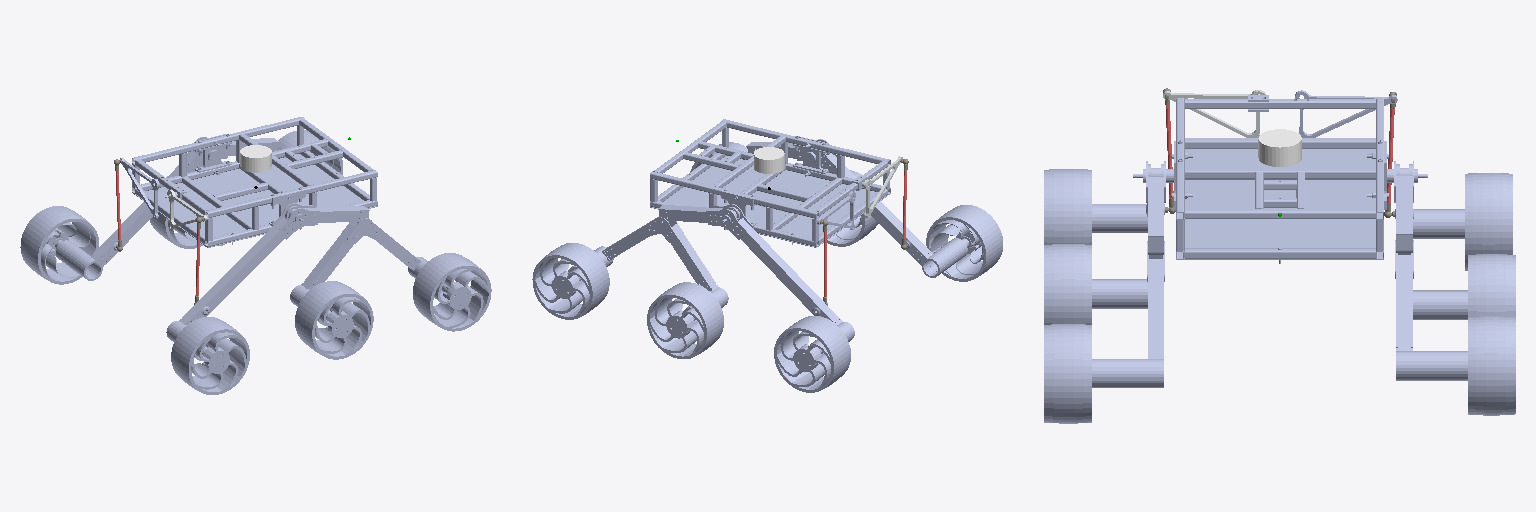
--- Facts derived from the render (not from the file) ---
3 views of the same robot in one strip: view 1: azimuth 30°, elevation 25°; view 2: azimuth 150°, elevation 25°; view 3: azimuth 270°, elevation 25° (orthographic).
Robot: rover — 31 links, 30 joints (5 revolute, 8 continuous, 15 fixed, 2 floating); root link root_link; default pose: every joint at zero.
Links seen in each view (by area): view 1: base_link, wheel_3, wheel_2, wheel_1, Right_rocker, wheel_4, Left_rocker, Right_bogie, sensor_laser, wheel_5, wheel_6, triangle-left; view 2: base_link, wheel_4, wheel_5, wheel_6, Left_rocker, wheel_1, Right_rocker, Left_bogie, wheel_2, sensor_laser, triangle-right; view 3: base_link, Left_bogie, Right_bogie, wheel_3, wheel_6, wheel_4, wheel_2, wheel_1, Right_rocker, Left_rocker, wheel_5, sensor_laser (+2 smaller).
Boxes of the visible links, x1,y1,x2,y2 form: base_link: [132, 117, 377, 247]; wheel_3: [413, 253, 491, 331]; wheel_2: [295, 281, 373, 359]; wheel_1: [171, 317, 249, 394]; Right_rocker: [166, 203, 369, 360]; wheel_4: [20, 206, 98, 284]; Left_rocker: [56, 137, 278, 280]; Right_bogie: [290, 218, 443, 325]; sensor_laser: [240, 145, 271, 172]; wheel_5: [150, 176, 202, 248]; wheel_6: [278, 130, 342, 174]; triangle-left: [120, 158, 159, 218]; base_link: [650, 119, 890, 247]; wheel_4: [774, 316, 850, 392]; wheel_5: [647, 282, 723, 358]; wheel_6: [532, 243, 609, 319]; Left_rocker: [658, 204, 854, 354]; wheel_1: [926, 205, 1002, 281]; Right_rocker: [746, 139, 967, 277]; Left_bogie: [568, 217, 728, 321]; wheel_2: [827, 170, 878, 246]; sensor_laser: [754, 147, 784, 173]; triangle-right: [864, 156, 902, 218]; base_link: [1133, 98, 1427, 263]; Left_bogie: [1395, 240, 1467, 380]; Right_bogie: [1092, 241, 1164, 387]; wheel_3: [1044, 324, 1091, 423]; wheel_6: [1468, 316, 1515, 415]; wheel_4: [1465, 173, 1512, 270]; wheel_2: [1044, 244, 1091, 324]; wheel_1: [1044, 169, 1091, 244]; Right_rocker: [1092, 161, 1165, 254]; Left_rocker: [1394, 161, 1464, 252]; wheel_5: [1468, 254, 1515, 316]; sensor_laser: [1258, 129, 1301, 166].
Bounding box of the posed robot: 1.13 × 1.08 × 0.5329 m (x, y, z).
Meshes: 25 distinct files referenced, 24 mesh visuals loaded (23 binary STL); not drawn: 2 (reference not matched to a file when rendering).

URDF robot description (rover):
<?xml version="1.0" ?>
<!-- =================================================================================== -->
<!-- |    This document was autogenerated by xacro from rover.urdf                     | -->
<!-- |    EDITING THIS FILE BY HAND IS NOT RECOMMENDED                                 | -->
<!-- =================================================================================== -->
<!-- This URDF was automatically created by SolidWorks to URDF Exporter! Originally created by Stephen Brawner ([email redacted]) 
     Commit Version: 1.6.0-1-g15f4949  Build Version: 1.6.7594.29634
     For more information, please see http://wiki.ros.org/sw_urdf_exporter -->
<robot name="rover">
  <self_collide>true</self_collide>
  <gazebo reference="base_link">
    <material>Gazebo/Trunk</material>
    <selfCollide>true</selfCollide>
  </gazebo>
  <gazebo reference="Left_rocker">
    <material>Gazebo/Grey</material>
    <selfCollide>true</selfCollide>
  </gazebo>
  <gazebo reference="Right_rocker">
    <material>Gazebo/Grey</material>
    <selfCollide>true</selfCollide>
  </gazebo>
  <gazebo reference="Left_bogie">
    <material>Gazebo/DarkGrey</material>
    <selfCollide>true</selfCollide>
  </gazebo>
  <gazebo reference="Right_bogie">
    <material>Gazebo/DarkGrey</material>
    <selfCollide>true</selfCollide>
  </gazebo>
  <gazebo reference="wheel_1">
    <material>Gazebo/Trunk</material>
    <selfCollide>true</selfCollide>
  </gazebo>
  <gazebo reference="wheel_2">
    <material>Gazebo/Trunk</material>
    <selfCollide>true</selfCollide>
  </gazebo>
  <gazebo reference="wheel_3">
    <material>Gazebo/Trunk</material>
    <selfCollide>true</selfCollide>
  </gazebo>
  <gazebo reference="wheel_4">
    <material>Gazebo/Trunk</material>
    <selfCollide>true</selfCollide>
  </gazebo>
  <gazebo reference="wheel_5">
    <material>Gazebo/Trunk</material>
    <selfCollide>true</selfCollide>
  </gazebo>
  <gazebo reference="wheel_6">
    <material>Gazebo/Trunk</material>
    <selfCollide>true</selfCollide>
  </gazebo>
  <!-- old plugin -->
  <!-- <gazebo>
    <plugin filename="libgazebo_ros_diff_drive.so" name="differential_drive_controller">
      <alwaysOn>true</alwaysOn>
      <updateRate>20</updateRate>
      <leftJoint>wheel_joint_1</leftJoint>
      <rightJoint>wheel_joint_4</rightJoint>
      <rosDebugLevel>1</rosDebugLevel>
      <publishOdomTF>true</publishOdomTF>
      <publishWheelTF>false</publishWheelTF>
      <publishWheelJointState>true</publishWheelJointState>
      <wheelSeparation>0.43</wheelSeparation>
      <wheelDiameter>0.15</wheelDiameter>
      <torque>0.1</torque>
      <commandTopic>cmd_vel_filtered</commandTopic>
      <odometryTopic>odom</odometryTopic>
      <odometryFrame>odom</odometryFrame>
      <robotBaseFrame>base_link</robotBaseFrame>
    </plugin>
  </gazebo> -->
  <!-- new plugin for 4 wheels -->
  <gazebo>
    <plugin filename="libgazebo_ros_skid_steer_drive.so" name="skid_steer_drive_controller">
      <updateRate>10.0</updateRate>
      <robotNamespace>/</robotNamespace>
      <leftFrontJoint>wheel_joint_4</leftFrontJoint>
      <rightFrontJoint>wheel_joint_1</rightFrontJoint>
      <leftRearJoint>wheel_joint_6</leftRearJoint>
      <rightRearJoint>wheel_joint_3</rightRearJoint>
      <wheelSeparation>0.43</wheelSeparation>
      <wheelDiameter>0.215</wheelDiameter>
      <robotBaseFrame>root_link</robotBaseFrame>
      <torque>20</torque>
      <!-- _filtered -->
      <commandTopic>cmd_vel</commandTopic>
      <odometryTopic>odom</odometryTopic>
      <odometryFrame>odom</odometryFrame>
      <broadcastTF>true</broadcastTF>
    </plugin>
  </gazebo>
  <gazebo reference="sensor_laser">
    <sensor name="head_hokuyo_sensor" type="ray">
      <pose>0 0 0.2 0 0 0</pose>
      <visualize>false</visualize>
      <update_rate>10</update_rate>
      <ray>
        <scan>
          <horizontal>
            <samples>720</samples>
            <resolution>1</resolution>
            <min_angle>-3</min_angle>
            <max_angle>
              3
              <!-- 1.570796 -->
            </max_angle>
          </horizontal>
        </scan>
        <range>
          <min>0.20</min>
          <max>10.0</max>
          <resolution>0.01</resolution>
        </range>
        <noise>
          <type>gaussian</type>
          <mean>0.0</mean>
          <stddev>0.01</stddev>
        </noise>
      </ray>
      <plugin filename="libgazebo_ros_laser.so" name="gazebo_ros_head_hokuyo_controller">
        <topicName>/mrt/laser/scan</topicName>
        <frameName>sensor_laser</frameName>
      </plugin>
    </sensor>
  </gazebo>
  <!-- camera -->
  <gazebo reference="camera_link">
    <!-- <sensor type="camera" name="camera1"> -->
    <sensor name="camera1" type="depth">
      <update_rate>15.0</update_rate>
      <camera name="head">
        <horizontal_fov>1.3962634</horizontal_fov>
        <image>
          <width>800</width>
          <height>800</height>
          <format>B8G8R8</format>
        </image>
        <clip>
          <near>0.02</near>
          <far>300</far>
        </clip>
        <noise>
          <type>gaussian</type>
          <!-- Noise is sampled independently per pixel on each frame.
               That pixel's noise value is added to each of its color
               channels, which at that point lie in the range [0,1]. -->
          <mean>0.0</mean>
          <stddev>0.007</stddev>
        </noise>
      </camera>
      <!-- <plugin name="camera_controller" filename="libgazebo_ros_camera.so"> -->
      <!--   <alwaysOn>true</alwaysOn> -->
      <!--   <updateRate>0.0</updateRate> -->
      <!--   <cameraName>camera</cameraName> -->
      <!--   <imageTopicName>image_raw</imageTopicName> -->
      <!--   <cameraInfoTopicName>camera_info</cameraInfoTopicName> -->
      <!--   <frameName>camera_link</frameName> -->
      <!--   <hackBaseline>0.07</hackBaseline> -->
      <!--   <distortionK1>0.0</distortionK1> -->
      <!--   <distortionK2>0.0</distortionK2> -->
      <!--   <distortionK3>0.0</distortionK3> -->
      <!--   <distortionT1>0.0</distortionT1> -->
      <!--   <distortionT2>0.0</distortionT2> -->
      <!-- </plugin> -->
      <plugin filename="libgazebo_ros_openni_kinect.so" name="camera_plugin">
        <baseline>0.2</baseline>
        <alwaysOn>true</alwaysOn>
        <!-- Keep this zero, update_rate in the parent <sensor> tag
          will control the frame rate. -->
        <updateRate>0.0</updateRate>
        <cameraName>mrt/camera</cameraName>
        <imageTopicName>color/image_raw</imageTopicName>
        <cameraInfoTopicName>color/camera_info</cameraInfoTopicName>
        <depthImageTopicName>depth/image_rect_raw</depthImageTopicName>
        <depthImageCameraInfoTopicName>depth/camera_info</depthImageCameraInfoTopicName>
        <pointCloudTopicName>depth/points</pointCloudTopicName>
        <frameName>camera_link_optical</frameName>
        <pointCloudCutoff>0.5</pointCloudCutoff>
        <pointCloudCutoffMax>7.0</pointCloudCutoffMax>
        <distortionK1>0</distortionK1>
        <distortionK2>0</distortionK2>
        <distortionK3>0</distortionK3>
        <distortionT1>0</distortionT1>
        <distortionT2>0</distortionT2>
        <CxPrime>0</CxPrime>
        <Cx>0</Cx>
        <Cy>0</Cy>
        <focalLength>0</focalLength>
      </plugin>
    </sensor>
  </gazebo>
  <gazebo reference="imu_link">
    <gravity>true</gravity>
    <sensor name="imu_sensor" type="imu">
      <always_on>true</always_on>
      <update_rate>100</update_rate>
      <visualize>true</visualize>
      <topic>__default_topic__</topic>
      <plugin filename="libgazebo_ros_imu_sensor.so" name="imu_plugin">
        <topicName>imu</topicName>
        <bodyName>imu_link</bodyName>
        <updateRateHZ>10.0</updateRateHZ>
        <gaussianNoise>0.0</gaussianNoise>
        <xyzOffset>0 0 0</xyzOffset>
        <rpyOffset>0 0 0</rpyOffset>
        <frameName>imu_link</frameName>
        <initialOrientationAsReference>false</initialOrientationAsReference>
      </plugin>
      <pose>0 0 0 0 0 0</pose>
    </sensor>
  </gazebo>
  <gazebo>
    <plugin filename="libhector_gazebo_ros_gps.so" name="gps_controller">
      <alwaysOn>true</alwaysOn>
      <updateRate>1.0</updateRate>
      <bodyName>base_link</bodyName>
      <topicName>fix</topicName>
      <velocityTopicName>fix_velocity</velocityTopicName>
      <drift>0.0 0.0 0.0</drift>
      <gaussianNoise>0.0001 0.0001 0.0001</gaussianNoise>
      <velocityDrift>0 0 0</velocityDrift>
      <velocityGaussianNoise>0.0 0.0 0.0</velocityGaussianNoise>
    </plugin>
  </gazebo>
  <material name="black">
    <color rgba="0.0 0.0 0.0 1.0"/>
  </material>
  <material name="blue">
    <color rgba="0.203125 0.23828125 0.28515625 1.0"/>
  </material>
  <material name="green">
    <color rgba="0.0 0.8 0.0 1.0"/>
  </material>
  <material name="grey">
    <color rgba="0.2 0.2 0.2 1.0"/>
  </material>
  <material name="orange">
    <color rgba="1.0 0.423529411765 0.0392156862745 1.0"/>
  </material>
  <material name="brown">
    <color rgba="0.870588235294 0.811764705882 0.764705882353 1.0"/>
  </material>
  <material name="red">
    <color rgba="0.80078125 0.12890625 0.1328125 1.0"/>
  </material>
  <material name="white">
    <color rgba="1.0 1.0 1.0 1.0"/>
  </material>
  <link name="root_link">
  </link>
  <joint name="joint_root" type="fixed">
    <origin rpy="0 0 3.1415926" xyz="0.276421885520658 -0.526119109974194 -0.213679693338444"/>
    <parent link="root_link"/>
    <child link="base_link"/>
  </joint>
  <link name="base_link">
    <inertial>
      <origin rpy="0 0 0" xyz="0.27642 -0.52612 0.31368"/>
      <mass value="1.8895"/>
      <inertia ixx="0.018533" ixy="-1.2571E-10" ixz="2.6134E-12" iyy="0.030522" iyz="2.6137E-10" izz="0.048376"/>
    </inertial>
    <visual>
      <origin rpy="0 0 0" xyz="0 0 0"/>
      <geometry>
        <mesh filename="package://bot_description/meshes/base_link.STL"/>
      </geometry>
      <material name="">
        <color rgba="0.79216 0.81961 0.93333 1"/>
      </material>
    </visual>
    <collision>
      <origin rpy="0 0 0" xyz="0 0 0"/>
      <geometry>
        <mesh filename="package://bot_description/meshes/base_link.STL"/>
      </geometry>
    </collision>
  </link>
  <link name="sensor_laser">
    <inertial>
      <origin rpy="0 0 0" xyz="0 0 0"/>
      <mass value="1"/>
      <!-- RANDOM INERTIA BELOW -->
      <inertia ixx="0.02" ixy="0" ixz="0" iyy="0.02" iyz="0" izz="0.02"/>
    </inertial>
    <visual>
      <origin rpy="0 0 0" xyz="0 0 0"/>
      <geometry>
        <cylinder length="0.05" radius="0.05"/>
      </geometry>
      <material name="white"/>
    </visual>
    <collision>
      <origin rpy="0 0 0" xyz="0 0 0"/>
      <geometry>
        <cylinder length="0.05" radius="0.05"/>
      </geometry>
    </collision>
  </link>
  <joint name="joint_sensor_laser" type="fixed">
    <origin rpy="0 0 3.1415926" xyz="0.276421885520658 -0.526119109974194 0.413679693338444"/>
    <parent link="base_link"/>
    <child link="sensor_laser"/>
  </joint>
  <!-- Camera -->
  <link name="camera_link">
    <collision>
      <origin rpy="0 0 0" xyz="0 0 0"/>
      <geometry>
        <cylinder length="0.005" radius="0.005"/>
      </geometry>
    </collision>
    <visual>
      <origin rpy="0 0 0" xyz="0 0 0"/>
      <geometry>
        <cylinder length="0.005" radius="0.005"/>
      </geometry>
      <material name="green"/>
    </visual>
    <inertial>
      <mass value="1e-5"/>
      <origin rpy="0 0 0" xyz="0 0 0"/>
      <inertia ixx="1e-6" ixy="0" ixz="0" iyy="1e-6" iyz="0" izz="1e-6"/>
    </inertial>
  </link>
  <joint name="camera_joint" type="fixed">
    <origin rpy="0 0 3.1415926" xyz="-0.06421885520658 -0.526119109974194 0.403679693338444"/>
    <parent link="base_link"/>
    <child link="camera_link"/>
  </joint>
  <!-- generate an optical frame http://www.ros.org/reps/rep-0103.html#suffix-frames
      so that ros and opencv can operate on the camera frame correctly -->
  <joint name="camera_optical_joint" type="fixed">
    <!-- these values have to be these values otherwise the gazebo camera image
        won't be aligned properly with the frame it is supposedly originating from -->
    <origin rpy="-1.5707963267948966 0 -1.5707963267948966" xyz="0 0 0"/>
    <parent link="camera_link"/>
    <child link="camera_link_optical"/>
  </joint>
  <link name="camera_link_optical">
  </link>
  <!-- IMU -->
  <link name="imu_link">
    <collision>
      <origin rpy="0 0 0" xyz="0 0 0"/>
      <geometry>
        <cylinder length="0.05" radius="0.05"/>
      </geometry>
    </collision>
    <visual>
      <origin rpy="0 0 0" xyz="0 0 0"/>
      <geometry>
        <cylinder length="0.005" radius="0.005"/>
      </geometry>
      <material name="black"/>
    </visual>
    <inertial>
      <mass value="1e-5"/>
      <origin rpy="0 0 0" xyz="0 0 0"/>
      <inertia ixx="1e-6" ixy="0" ixz="0" iyy="1e-6" iyz="0" izz="1e-6"/>
    </inertial>
  </link>
  <joint name="imu_joint" type="fixed">
    <axis xyz="0 1 0"/>
    <origin rpy="0 0 0" xyz="0.276421885520658 -0.526119109974194 0.313679693338444"/>
    <parent link="base_link"/>
    <child link="imu_link"/>
  </joint>
  <link name="Left_rocker">
    <inertial>
      <origin rpy="0 0 0" xyz="0.167360944924866 -0.182311497446577 0.0450713948908615"/>
      <mass value="0.726872906165902"/>
      <inertia ixx="0.00239821590517036" ixy="0.00170592943816476" ixz="2.57104235529553E-18" iyy="0.00324908760666504" iyz="-1.44505695733635E-18" izz="0.00427740926676354"/>
    </inertial>
    <visual>
      <origin rpy="0 0 0" xyz="0 0 0"/>
      <geometry>
        <mesh filename="package://bot_description/meshes/Left_rocker.STL"/>
      </geometry>
      <material name="">
        <color rgba="0.792156862745098 0.819607843137255 0.933333333333333 1"/>
      </material>
    </visual>
    <collision>
      <origin rpy="0 0 0" xyz="0 0 0"/>
      <geometry>
        <mesh filename="package://bot_description/meshes/Left_rocker.STL"/>
      </geometry>
    </collision>
  </link>
  <joint name="joint1" type="continuous">
    <origin rpy="1.5708 -0.06648 0" xyz="0.29675 -0.78912 0.33409"/>
    <parent link="base_link"/>
    <child link="Left_rocker"/>
    <axis xyz="0 0 1"/>
  </joint>
  <link name="wheel_4">
    <inertial>
      <origin rpy="0 0 0" xyz="0.144438795009644 0.055848060179012 -0.115046141128507"/>
      <mass value="1.56933179481798"/>
      <inertia ixx="0.0103340900427652" ixy="0.000206732701279778" ixz="-0.00254072736757193" iyy="0.00810089358817614" iyz="-0.000233941595228793" izz="0.0109493657609546"/>
    </inertial>
    <visual>
      <origin rpy="0 0 0" xyz="-0.03 -0.035 -0.02"/>
      <geometry>
        <mesh filename="package://bot_description/meshes/wheel_4.STL"/>
      </geometry>
      <material name="">
        <color rgba="0.792156862745098 0.819607843137255 0.933333333333333 1"/>
      </material>
    </visual>
    <collision>
      <origin rpy="0 0 0" xyz="-0.03 -0.035 -0.02"/>
      <geometry>
        <mesh filename="package://bot_description/meshes/wheel_4.STL"/>
      </geometry>
      <surface>
        <friction>
          <ode>
            <mu>1.5</mu>
            <mu2>2</mu2>
            <slip1>1.5</slip1>
            <slip2>2</slip2>
          </ode>
        </friction>
      </surface>
    </collision>
  </link>
  <joint name="wheel_joint_4" type="continuous">
    <origin rpy="3.0602 -0.72361 -1.2268" xyz="0.4071 -0.34158 0.043136"/>
    <parent link="Left_rocker"/>
    <child link="wheel_4"/>
    <axis xyz="0.6621 0.060914 -0.74694"/>
  </joint>
  <link name="Left_bogie">
    <inertial>
      <origin rpy="0 0 0" xyz="-0.0191025407125499 -0.151328320402829 0.0624161568789092"/>
      <mass value="0.77472658771127"/>
      <inertia ixx="0.00197112599922037" ixy="7.13582562834437E-07" ixz="2.77626402487547E-12" iyy="0.00198480235561076" iyz="-1.49310628600756E-13" izz="0.00141940708466023"/>
    </inertial>
    <visual>
      <origin rpy="0 0 0" xyz="0 0 0"/>
      <geometry>
        <mesh filename="package://bot_description/meshes/Left_bogie.STL"/>
      </geometry>
      <material name="">
        <color rgba="0.792156862745098 0.819607843137255 0.933333333333333 1"/>
      </material>
    </visual>
    <collision>
      <origin rpy="0 0 0" xyz="0 0 0"/>
      <geometry>
        <mesh filename="package://bot_description/meshes/Left_bogie.STL"/>
      </geometry>
    </collision>
  </link>
  <joint name="joint3" type="revolute">
    <origin rpy="0 0 -0.11742" xyz="-0.23989 -0.077168 0.002"/>
    <parent link="Left_rocker"/>
    <child link="Left_bogie"/>
    <axis xyz="0 0 1"/>
    <limit effort="100" lower="-1" upper="0.7" velocity="1"/>
  </joint>
  <link name="wheel_5">
    <inertial>
      <origin rpy="0 0 0" xyz="0.13231582106083 0.0320795339443446 -0.127730464693944"/>
      <mass value="1.56933181485893"/>
      <inertia ixx="0.010334421333825" ixy="0.000206987460861856" ixz="-0.00254065913160713" iyy="0.00810063924924905" iyz="-0.000233343656992006" izz="0.0109492888124459"/>
    </inertial>
    <visual>
      <origin rpy="0 0 0" xyz="-0.01 -0.025 -0.01"/>
      <geometry>
        <mesh filename="package://bot_description/meshes/wheel_5.STL"/>
      </geometry>
      <material name="">
        <color rgba="0.792156862745098 0.819607843137255 0.933333333333333 1"/>
      </material>
    </visual>
    <collision>
      <origin rpy="0 0 0" xyz="-0.01 -0.025 -0.01"/>
      <geometry>
        <mesh filename="package://bot_description/meshes/wheel_5.STL"/>
      </geometry>
      <surface>
        <friction>
          <ode>
            <mu>1.5</mu>
            <mu2>2</mu2>
            <slip1>1.5</slip1>
            <slip2>2</slip2>
          </ode>
        </friction>
      </surface>
    </collision>
  </link>
  <joint name="wheel_joint_5" type="continuous">
    <origin rpy="3.0602 -0.72361 -2.6667" xyz="0.192 -0.195 0.041136"/>
    <parent link="Left_bogie"/>
    <child link="wheel_5"/>
    <axis xyz="0.6621 0.060914 -0.74694"/>
  </joint>
  <link name="wheel_6">
    <inertial>
      <origin rpy="0 0 0" xyz="0.123984453970486 0.0528779970602527 -0.133419336702574"/>
      <mass value="1.56933181485893"/>
      <inertia ixx="0.0103344213338249" ixy="0.000206987460861848" ixz="-0.00254065913160712" iyy="0.00810063924924902" iyz="-0.000233343656992003" izz="0.0109492888124459"/>
    </inertial>
    <visual>
      <origin rpy="0 0 0" xyz="-0.01 -0.025 -0.01"/>
      <geometry>
        <mesh filename="package://bot_description/meshes/wheel_5.STL"/>
      </geometry>
      <material name="">
        <color rgba="0.792156862745098 0.819607843137255 0.933333333333333 1"/>
      </material>
    </visual>
    <collision>
      <origin rpy="0 0 0" xyz="-0.01 -0.025 -0.01"/>
      <geometry>
        <mesh filename="package://bot_description/meshes/wheel_5.STL"/>
      </geometry>
      <surface>
        <friction>
          <ode>
            <mu>1.5</mu>
            <mu2>2</mu2>
            <slip1>1.5</slip1>
            <slip2>2</slip2>
          </ode>
        </friction>
      </surface>
    </collision>
  </link>
  <joint name="wheel_joint_6" type="continuous">
    <origin rpy="3.0602 -0.72361 -2.6667" xyz="-0.23514 -0.17514 0.041136"/>
    <parent link="Left_bogie"/>
    <child link="wheel_6"/>
    <axis xyz="0.6621 0.060914 -0.74694"/>
  </joint>
  <!-- <link
    name="ball-left-down0">
    <inertial>
      <origin
        xyz="2.07458677270456E-06 -0.0111838499137263 2.02617547698236E-07"
        rpy="0 0 0" />
      <mass
        value="0.0236792406632794" />
      <inertia
        ixx="2.57061050178732E-06"
        ixy="9.20708510051927E-11"
        ixz="-1.84149422795921E-09"
        iyy="3.59636855567973E-07"
        iyz="8.94129882814569E-12"
        izz="2.58931051687203E-06" />
    </inertial>
    <visual>
      <origin
        xyz="0 0 0"
        rpy="0 0 0" />
      <geometry>
        <mesh
          filename="package://bot_description/meshes/ball-left-down0.STL" />
      </geometry>
      <material
        name="">
        <color
          rgba="0.650980392156863 0.619607843137255 0.588235294117647 1" />
      </material>
    </visual>
    <collision>
      <origin
        xyz="0 0 0"
        rpy="0 0 0" />
      <geometry>
        <mesh
          filename="package://bot_description/meshes/ball-left-down0.STL" />
      </geometry>
    </collision>
  </link> -->
  <joint name="s-joint-8l" type="fixed">
    <origin rpy="-1.5708 0 -2.9303" xyz="0.31476 -0.27334 -0.0146"/>
    <parent link="Left_rocker"/>
    <child link="ball-left-down"/>
    <axis xyz="0 0 0"/>
  </joint>
  <link name="Right_rocker">
    <inertial>
      <origin rpy="0 0 0" xyz="0.183201205385285 -0.166386556947178 0.138928605109138"/>
      <mass value="0.726872906165903"/>
      <inertia ixx="0.00209714276306076" ixy="0.00160105452574116" ixz="6.08506179066926E-19" iyy="0.00355016074877466" iyz="4.53084220245437E-20" izz="0.00427740926676356"/>
    </inertial>
    <visual>
      <origin rpy="0 0 0" xyz="0 0 0"/>
      <geometry>
        <mesh filename="package://bot_description/meshes/Right_rocker.STL"/>
      </geometry>
      <material name="">
        <color rgba="0.792156862745098 0.819607843137255 0.933333333333333 1"/>
      </material>
    </visual>
    <collision>
      <origin rpy="0 0 0" xyz="0 0 0"/>
      <geometry>
        <mesh filename="package://bot_description/meshes/Right_rocker.STL"/>
      </geometry>
    </collision>
  </link>
  <joint name="joint2" type="continuous">
    <origin rpy="1.5708 0 0" xyz="0.29675 -0.079119 0.33409"/>
    <parent link="base_link"/>
    <child link="Right_rocker"/>
    <axis xyz="0 0 1"/>
  </joint>
  <link name="wheel_1">
    <inertial>
      <origin rpy="0 0 0" xyz="0.0262918155854199 -0.0029220689689949 -0.035977185773284"/>
      <mass value="1.56933180107679"/>
      <inertia ixx="0.0103344213329832" ixy="0.000206987461048749" ixz="-0.00254065913223699" iyy="0.0081006392481179" iyz="-0.000233343657269651" izz="0.0109492888118564"/>
    </inertial>
    <visual>
      <origin rpy="0 0 0" xyz="0 0 0"/>
      <geometry>
        <mesh filename="package://bot_description/meshes/wheel_1.STL"/>
      </geometry>
      <material name="">
        <color rgba="0.792156862745098 0.819607843137255 0.933333333333333 1"/>
      </material>
    </visual>
    <collision>
      <origin rpy="0 0 0" xyz="0 0 0"/>
      <geometry>
        <mesh filename="package://bot_description/meshes/wheel_1.STL"/>
      </geometry>
      <surface>
        <friction>
          <ode>
            <mu>1.5</mu>
            <mu2>2</mu2>
            <slip1>1.5</slip1>
            <slip2>2</slip2>
          </ode>
        </friction>
      </surface>
    </collision>
  </link>
  <!-- reversing xyz for wheel 123 -->
  <joint name="wheel_joint_1" type="continuous">
    <origin rpy="-0.081372 0.72361 -0.030811" xyz="0.43071 -0.30158 0"/>
    <parent link="Right_rocker"/>
    <child link="wheel_1"/>
    <axis xyz="-0.6621 -0.060914 0.74694"/>
  </joint>
  <link name="Right_bogie">
    <inertial>
      <origin rpy="0 0 0" xyz="-5.75209706540694E-05 -0.172763722897866 0.119583843668451"/>
      <mass value="0.774726597950145"/>
      <inertia ixx="0.00197108962638393" ixy="-9.83621083818607E-08" ixz="2.78023535343234E-12" iyy="0.00198483875975475" iyz="1.50952741755008E-14" izz="0.00141940711596369"/>
    </inertial>
    <visual>
      <origin rpy="0 0 0" xyz="0 0 0"/>
      <geometry>
        <mesh filename="package://bot_description/meshes/Right_bogie.STL"/>
      </geometry>
      <material name="">
        <color rgba="0.792156862745098 0.819607843137255 0.933333333333333 1"/>
      </material>
    </visual>
    <collision>
      <origin rpy="0 0 0" xyz="0 0 0"/>
      <geometry>
        <mesh filename="package://bot_description/meshes/Right_bogie.STL"/>
      </geometry>
    </collision>
  </link>
  <joint name="joint4" type="revolute">
    <origin rpy="0 0 0" xyz="-0.23989 -0.077168 0"/>
    <parent link="Right_rocker"/>
    <child link="Right_bogie"/>
    <axis xyz="0 0 1"/>
    <limit effort="100" lower="-1" upper="0.7" velocity="1"/>
  </joint>
  <link name="wheel_2">
    <inertial>
      <origin rpy="0 0 0" xyz="0.029232197183729 0.00711312038511042 -0.0325524060616964"/>
      <mass value="1.56933180107703"/>
      <inertia ixx="0.0103344213312556" ixy="0.000206987457978303" ixz="-0.00254065913109096" iyy="0.00810063924688358" iyz="-0.00023334366266065" izz="0.0109492888148186"/>
    </inertial>
    <visual>
      <origin rpy="0 0 0" xyz="0 0 0"/>
      <geometry>
        <mesh filename="package://bot_description/meshes/wheel_2.STL"/>
      </geometry>
      <material name="">
        <color rgba="0.792156862745098 0.819607843137255 0.933333333333333 1"/>
      </material>
    </visual>
    <collision>
      <origin rpy="0 0 0" xyz="0 0 0"/>
      <geometry>
        <mesh filename="package://bot_description/meshes/wheel_2.STL"/>
      </geometry>
      <surface>
        <friction>
          <ode>
            <mu>1.5</mu>
            <mu2>2</mu2>
            <slip1>1.5</slip1>
            <slip2>2</slip2>
          </ode>
        </friction>
      </surface>
    </collision>
  </link>
  <joint name="wheel_joint_2" type="continuous">
    <origin rpy="-0.081372 0.72361 -0.030811" xyz="0.21514 -0.21514 0"/>
    <parent link="Right_bogie"/>
    <child link="wheel_2"/>
    <axis xyz="-0.6621 -0.060914 0.74694"/>
  </joint>
  <link name="wheel_3">
    <inertial>
      <origin rpy="0 0 0" xyz="0.0292668549783096 0.00479183891094428 -0.0327109899183606"/>
      <mass value="1.56933179818944"/>
      <inertia ixx="0.0103344956883222" ixy="0.000207212259777325" ixz="-0.00254096968797141" iyy="0.00810114754510584" iyz="-0.000232962227841343" izz="0.0109487061591894"/>
    </inertial>
    <visual>
      <origin rpy="0 0 0" xyz="0 0 0"/>
      <geometry>
        <mesh filename="package://bot_description/meshes/wheel_3.STL"/>
      </geometry>
      <material name="">
        <color rgba="0.792156862745098 0.819607843137255 0.933333333333333 1"/>
      </material>
    </visual>
    <collision>
      <origin rpy="0 0 0" xyz="0 0 0"/>
      <geometry>
        <mesh filename="package://bot_description/meshes/wheel_3.STL"/>
      </geometry>
      <surface>
        <friction>
          <ode>
            <mu>1.5</mu>
            <mu2>2</mu2>
            <slip1>1.5</slip1>
            <slip2>2</slip2>
          </ode>
        </friction>
      </surface>
    </collision>
  </link>
  <joint name="wheel_joint_3" type="continuous">
    <origin rpy="-0.081372 0.72361 -0.030811" xyz="-0.21514 -0.21514 0"/>
    <parent link="Right_bogie"/>
    <child link="wheel_3"/>
    <axis xyz="-0.6621 -0.060914 0.74694"/>
  </joint>
  <!-- <link
    name="ball-right-down0">
    <inertial>
      <origin
        xyz="2.07457333400995E-06 -0.0111838499108833 2.0254998001068E-07"
        rpy="0 0 0" />
      <mass
        value="0.0236792406420234" />
      <inertia
        ixx="2.57061050226204E-06"
        ixy="9.20708307735023E-11"
        ixz="-1.8414954739775E-09"
        iyy="3.59636855997047E-07"
        iyz="8.94415600789211E-12"
        izz="2.58931051698473E-06" />
    </inertial>
    <visual>
      <origin
        xyz="0 0 0"
        rpy="0 0 0" />
      <geometry>
        <mesh
          filename="package://bot_description/meshes/ball-right-down0.STL" />
      </geometry>
      <material
        name="">
        <color
          rgba="0.650980392156863 0.619607843137255 0.588235294117647 1" />
      </material>
    </visual>
    <collision>
      <origin
        xyz="0 0 0"
        rpy="0 0 0" />
      <geometry>
        <mesh
          filename="package://bot_description/meshes/ball-right-down0.STL" />
      </geometry>
    </collision>
  </link> -->
  <joint name="s-joint-8r" type="fixed">
    <origin rpy="1.5708 0 -2.7598" xyz="0.33825 -0.24368 0.1986"/>
    <parent link="Right_rocker"/>
    <child link="ball-right-down"/>
    <axis xyz="0 0 0"/>
  </joint>
  <link name="connector-link-1">
    <inertial>
      <origin rpy="0 0 0" xyz="0.0190878780714502 0 0"/>
      <mass value="0.0199033183799962"/>
      <inertia ixx="5.50519098487145E-06" ixy="2.2946490565619E-22" ixz="-3.82219207612435E-23" iyy="5.85049834670421E-06" iyz="-7.63893023886394E-24" izz="4.40671191125244E-06"/>
    </inertial>
    <visual>
      <origin rpy="0 0 0" xyz="0 0 0"/>
      <geometry>
        <mesh filename="package://bot_description/meshes/connector-link-1.STL"/>
      </geometry>
      <material name="">
        <color rgba="0.792156862745098 0.819607843137255 0.933333333333333 1"/>
      </material>
    </visual>
    <collision>
      <origin rpy="0 0 0" xyz="0 0 0"/>
      <geometry>
        <mesh filename="package://bot_description/meshes/connector-link-1.STL"/>
      </geometry>
    </collision>
  </link>
  <joint name="fix-joint-1" type="fixed">
    <origin rpy="1.5708 0 0" xyz="0.57075 -0.57612 0.38409"/>
    <parent link="base_link"/>
    <child link="connector-link-1"/>
    <axis xyz="0 0 0"/>
  </joint>
  <link name="triangle-left">
    <inertial>
      <origin rpy="0 0 0" xyz="0.0808546587691665 -0.0336957844327703 -0.00505192020639311"/>
      <mass value="0.1522789919621831"/>
      <inertia ixx="7.76693819705009E-05" ixy="-6.57323940361056E-05" ixz="-2.19466715326036E-07" iyy="0.000274526110021768" iyz="9.14616825099291E-08" izz="0.000351313599973131"/>
    </inertial>
    <visual>
      <origin rpy="0 0 0" xyz="0 0 0"/>
      <geometry>
        <mesh filename="package://bot_description/meshes/triangle-left.STL"/>
      </geometry>
      <material name="">
        <color rgba="0.792156862745098 0.819607843137255 0.933333333333333 1"/>
      </material>
    </visual>
    <collision>
      <origin rpy="0 0 0" xyz="0 0 0"/>
      <geometry>
        <mesh filename="package://bot_description/meshes/triangle-left.STL"/>
      </geometry>
    </collision>
  </link>
  <joint name="s-joint-left" type="revolute">
    <origin rpy="1.5708 -1.5513 -1.5708" xyz="0.038 0 0"/>
    <parent link="connector-link-1"/>
    <child link="triangle-left"/>
    <axis xyz="0 0 1"/>
    <limit effort="100" lower="-1" upper="1" velocity="1"/>
  </joint>
  <link name="triangle-connector">
    <inertial>
      <origin rpy="0 0 0" xyz="0.05 5.55111512312578E-17 0.00516595949808951"/>
      <mass value="0.0443640564577731"/>
      <inertia ixx="2.39706488563509E-06" ixy="1.03922319270217E-19" ixz="-5.95432696611056E-21" iyy="6.71951537000553E-05" iyz="-7.31245077877221E-23" izz="6.88258108974862E-05"/>
    </inertial>
    <visual>
      <origin rpy="0 0 0" xyz="0.05 0 0"/>
      <geometry>
        <mesh filename="package://bot_description/meshes/triangle-connector-l.STL"/>
      </geometry>
      <material name="">
        <color rgba="0.898039215686275 0.917647058823529 0.929411764705882 1"/>
      </material>
    </visual>
    <collision>
      <origin rpy="0 0 0" xyz="0.05 0 0"/>
      <geometry>
        <mesh filename="package://bot_description/meshes/triangle-connector-l.STL"/>
      </geometry>
    </collision>
  </link>
  <!-- -0.04999 -0.1116 -0.01 -->
  <joint name="s-joint-left-down" type="revolute">
    <origin rpy="3.1416 0 -3.1221" xyz="0.0 -0.1116 -0.01"/>
    <parent link="triangle-left"/>
    <child link="triangle-connector"/>
    <axis xyz="0 0 1"/>
    <limit effort="30" lower="-1" upper="1" velocity="1"/>
  </joint>
  <!-- <gazebo>
    <plugin name="Myrobot_ClosedLoopPlugin" filename="libpegasus_gazebo_closed_loop_plugin.so">
      <joint>s-joint-left-down</joint> <child>triangle-connector</child> 
      <parent>triangle-left</parent>
    </plugin>
  </gazebo> -->
  <link name="triangle-ball-left">
    <inertial>
      <origin rpy="0 0 0" xyz="2.07458677536909E-06 -0.0111838499137585 2.0261754341E-07"/>
      <mass value="0.0236792406632795"/>
      <inertia ixx="2.57061050178732E-06" ixy="9.20708510051944E-11" ixz="-1.84149422795903E-09" iyy="3.59636855567973E-07" iyz="8.94129882837395E-12" izz="2.58931051687204E-06"/>
    </inertial>
    <visual>
      <origin rpy="0 0 0" xyz="0 0 0"/>
      <geometry>
        <mesh filename="package://bot_description/meshes/triangle-ball-left.STL"/>
      </geometry>
      <material name="">
        <color rgba="0.650980392156863 0.619607843137255 0.588235294117647 1"/>
      </material>
    </visual>
    <collision>
      <origin rpy="0 0 0" xyz="0 0 0"/>
      <geometry>
        <mesh filename="package://bot_description/meshes/triangle-ball-left.STL"/>
      </geometry>
    </collision>
  </link>
  <joint name="ball-left" type="fixed">
    <origin rpy="-1.5708 0 -0.11925" xyz="0.21 0 -0.0256"/>
    <parent link="triangle-left"/>
    <child link="triangle-ball-left"/>
    <axis xyz="0 0 0"/>
  </joint>
  <link name="socket-left">
    <inertial>
      <origin rpy="0 0 0" xyz="0.00692886977032131 0.000721743264174457 1.25486276925102E-08"/>
      <mass value="0.0295586667242852"/>
      <inertia ixx="1.10515560620637E-06" ixy="1.44945159679416E-07" ixz="-1.78818651322801E-12" iyy="3.67289086455697E-06" iyz="1.41647130464454E-12" izz="3.53209282187446E-06"/>
    </inertial>
    <visual>
      <origin rpy="0 0 0" xyz="0 0 0"/>
      <geometry>
        <mesh filename="package://bot_description/meshes/socket-left.STL"/>
      </geometry>
      <material name="">
        <color rgba="0.650980392156863 0.619607843137255 0.588235294117647 1"/>
      </material>
    </visual>
    <collision>
      <origin rpy="0 0 0" xyz="0 0 0"/>
      <geometry>
        <mesh filename="package://bot_description/meshes/socket-left.STL"/>
      </geometry>
    </collision>
  </link>
  <joint name="ball-socket-left" type="floating">
    <origin rpy="-0.89006 1.4692 -0.17888" xyz="0 0 0"/>
    <parent link="triangle-ball-left"/>
    <child link="socket-left"/>
    <axis xyz="0 0.707 0.707"/>
  </joint>
  <gazebo>
    <joint name="ball-socket-left" type="ball">
      <parent>triangle-ball-left</parent>
      <child>socket-left</child>
      <pose>0 0 0 -0.89006 1.4692 -0.17888</pose>
      <axis>
        <xyz>1 0 0</xyz>
        <limit>
          <lower>-3</lower>
          <upper>3</upper>
        </limit>
        <dynamics>
          <spring_reference>0</spring_reference>
          <spring_stiffness>0</spring_stiffness>
        </dynamics>
        <use_parent_model_frame>1</use_parent_model_frame>
      </axis>
      <axis2>
        <xyz>0 1 0</xyz>
        <limit>
          <lower>-1</lower>
          <upper>1</upper>
        </limit>
        <dynamics>
          <spring_reference>0</spring_reference>
          <spring_stiffness>0</spring_stiffness>
        </dynamics>
        <use_parent_model_frame>1</use_parent_model_frame>
      </axis2>
      <physics>
        <ode>
          <implicit_spring_damper>1</implicit_spring_damper>
          <cfm_damping>1</cfm_damping>
          <limit>
            <cfm>0</cfm>
            <erp>0.2</erp>
          </limit>
        </ode>
      </physics>
    </joint>
  </gazebo>
  <link name="left-rod">
    <inertial>
      <origin rpy="0 0 0" xyz="2.39808173319034E-14 -0.149000000000016 -1.69864122767649E-14"/>
      <mass value="0.0212057504117311"/>
      <inertia ixx="0.00012895746969134" ixy="-1.31361244357096E-19" ixz="6.7762635780344E-21" iyy="2.65071880146638E-07" iyz="5.1197971782694E-19" izz="0.00012895746969134"/>
    </inertial>
    <visual>
      <origin rpy="0 0 0" xyz="0 0 0"/>
      <geometry>
        <mesh filename="package://bot_description/meshes/left-rod.STL"/>
      </geometry>
      <material name="">
        <color rgba="1 0.501960784313725 0.501960784313725 1"/>
      </material>
    </visual>
    <collision>
      <origin rpy="0 0 0" xyz="0 0 0"/>
      <geometry>
        <mesh filename="package://bot_description/meshes/left-rod.STL"/>
      </geometry>
    </collision>
  </link>
  <joint name="s-joint-5l" type="fixed">
    <origin rpy="0 1.5252 1.5708" xyz="0 0 0"/>
    <parent link="socket-left"/>
    <child link="left-rod"/>
    <axis xyz="0 1 0"/>
  </joint>
  <link name="socket-left-down">
    <inertial>
      <origin rpy="0 0 0" xyz="-0.0240873295919037 -0.00927825613404898 1.55183480510246E-08"/>
      <mass value="0.0295586396880072"/>
      <inertia ixx="1.10515560121914E-06" ixy="1.44945047839436E-07" ixz="5.91299289208555E-13" iyy="3.67288871024403E-06" iyz="1.39544129503807E-12" izz="3.53209150489565E-06"/>
    </inertial>
    <visual>
      <origin rpy="0 0 0" xyz="0 0 0"/>
      <geometry>
        <mesh filename="package://bot_description/meshes/socket-left-down.STL"/>
      </geometry>
      <material name="">
        <color rgba="0.650980392156863 0.619607843137255 0.588235294117647 1"/>
      </material>
    </visual>
    <collision>
      <origin rpy="0 0 0" xyz="0 0 0"/>
      <geometry>
        <mesh filename="package://bot_description/meshes/socket-left-down.STL"/>
      </geometry>
    </collision>
  </link>
  <joint name="s-joint-6l" type="fixed">
    <origin rpy="2.7957 0 1.5708" xyz="0.0094076 -0.26698 0.0033907"/>
    <parent link="left-rod"/>
    <child link="socket-left-down"/>
    <axis xyz="1 0 0"/>
  </joint>
  <link name="ball-left-down">
    <inertial>
      <origin rpy="0 0 0" xyz="2.07458677270456E-06 -0.0111838499137263 2.02617547795381E-07"/>
      <mass value="0.0236792406632794"/>
      <inertia ixx="2.57061050178732E-06" ixy="9.20708510051983E-11" ixz="-1.84149422795921E-09" iyy="3.59636855567973E-07" iyz="8.94129882813713E-12" izz="2.58931051687203E-06"/>
    </inertial>
    <visual>
      <origin rpy="0 0 0" xyz="0 0 0"/>
      <geometry>
        <mesh filename="package://bot_description/meshes/ball-left-down.STL"/>
      </geometry>
      <material name="">
        <color rgba="0.650980392156863 0.619607843137255 0.588235294117647 1"/>
      </material>
    </visual>
    <collision>
      <origin rpy="0 0 0" xyz="0 0 0"/>
      <geometry>
        <mesh filename="package://bot_description/meshes/ball-left-down.STL"/>
      </geometry>
    </collision>
  </link>
  <!-- <joint
    name="s-joint-7l"
    type="continuous">
    <origin
      xyz="-0.031016 -0.01 0"
      rpy="-2.2692 -1.1462 2.3562" />
    <parent
      link="socket-left-down" />
    <child
      link="ball-left-down" />
    <axis
      xyz="0 1 0" /> -->
  <!-- user-defined false axis 0.6621 0.060914 -0.74694-->
  <!-- </joint> -->
  <gazebo>
    <joint name="s-joint-7l" type="universal">
      <parent>socket-left-down</parent>
      <child>ball-left-down</child>
      <pose>0.3162 -0.2719 -0.017 0 0 0</pose>
      <axis>
        <xyz>0 0 1</xyz>
        <limit>
          <lower>-3</lower>
          <upper>3</upper>
        </limit>
        <dynamics>
          <spring_reference>0</spring_reference>
          <spring_stiffness>0</spring_stiffness>
        </dynamics>
        <use_parent_model_frame>0</use_parent_model_frame>
      </axis>
      <axis2>
        <xyz>0 1 0</xyz>
        <limit>
          <lower>-1</lower>
          <upper>1</upper>
        </limit>
        <dynamics>
          <spring_reference>0</spring_reference>
          <spring_stiffness>0</spring_stiffness>
        </dynamics>
        <use_parent_model_frame>0</use_parent_model_frame>
      </axis2>
      <physics>
        <ode>
          <implicit_spring_damper>1</implicit_spring_damper>
          <cfm_damping>1</cfm_damping>
          <limit>
            <cfm>0</cfm>
            <erp>0.2</erp>
          </limit>
        </ode>
      </physics>
    </joint>
  </gazebo>
  <link name="connector-link-2">
    <inertial>
      <!-- "0.0190878780714503 0 0" -->
      <origin rpy="0 0 0" xyz="0.29875 0.34231 0.347"/>
      <mass value="0.0199033183799962"/>
      <inertia ixx="5.50519098487144E-06" ixy="1.33101064420802E-22" ixz="-1.62187736189962E-21" iyy="5.8504983467042E-06" iyz="-2.75337406645934E-22" izz="4.40671191125243E-06"/>
    </inertial>
    <visual>
      <origin rpy="0 0 0" xyz="0 0 0"/>
      <geometry>
        <mesh filename="package://bot_description/meshes/connector-link-2.STL"/>
      </geometry>
      <material name="">
        <color rgba="0.792156862745098 0.819607843137255 0.933333333333333 1"/>
      </material>
    </visual>
    <collision>
      <origin rpy="0 0 0" xyz="0 0 0"/>
      <geometry>
        <mesh filename="package://bot_description/meshes/connector-link-2.STL"/>
      </geometry>
    </collision>
  </link>
  <joint name="fix-joint-2" type="fixed">
    <origin rpy="1.5708 0 0" xyz="0.57075 -0.47612 0.38409"/>
    <parent link="base_link"/>
    <child link="connector-link-2"/>
    <axis xyz="0 0 0"/>
  </joint>
  <link name="triangle-right">
    <!-- -0.259403396495337 0.315319674105032 0.341802956534147 0.0808546587691665 -0.0336957844327703 -0.00505192020639311-->
    <inertial>
      <origin rpy="0 0 0" xyz="0.34 -0.347105032 -0.336802956534147"/>
      <mass value="0.151146897932714"/>
      <inertia ixx="0.000209697810225404" ixy="-0.000177445612241148" ixz="6.02356058570887E-07" iyy="0.000741116112539513" iyz="-2.43837164352351E-07" izz="0.000948432531563561"/>
    </inertial>
    <visual>
      <origin rpy="0 0 0" xyz="0.34 -0.347105032 -0.336802956534147"/>
      <geometry>
        <mesh filename="package://bot_description/meshes/triangle-right.STL"/>
      </geometry>
      <material name="">
        <color rgba="0.898039215686275 0.917647058823529 0.929411764705882 1"/>
      </material>
    </visual>
    <collision>
      <origin rpy="0 0 0" xyz="0.34 -0.347105032 -0.336802956534147"/>
      <geometry>
        <mesh filename="package://bot_description/meshes/triangle-right.STL"/>
      </geometry>
    </collision>
  </link>
  <joint name="s-joint-right" type="revolute">
    <!-- "-0.29875 -0.34231 -0.347" -->
    <origin rpy="1.5708 1.5513 1.5708" xyz="0.038 0 0"/>
    <parent link="connector-link-2"/>
    <child link="triangle-right"/>
    <axis xyz="0 0 1"/>
    <limit effort="100" lower="-1" upper="1" velocity="1"/>
  </joint>
  <!-- <link
    name="triangle-connector-r">
    <inertial>
      <origin
        xyz="0.05 0 0.00516595949808973"
        rpy="0 0 0" />
      <mass
        value="0.0443640564577731" />
      <inertia
        ixx="2.39706488563509E-06"
        ixy="1.0392846462111E-19"
        ixz="-5.96763105461838E-21"
        iyy="6.71951537000553E-05"
        iyz="-7.27665004284254E-23"
        izz="6.88258108974862E-05" />
    </inertial>
    <visual>
      <origin
        xyz="-0.05 0 0.01516595949808973"
        rpy="0 0 0" />
      <geometry>
        <mesh
          filename="package://bot_description/meshes/triangle-connector-l.STL" />
      </geometry>
      <material
        name="">
        <color
          rgba="0.898039215686275 0.917647058823529 0.929411764705882 1" />
      </material>
    </visual>
    <collision>
      <origin
        xyz="0 0 0"
        rpy="0 0 0" />
      <geometry>
        <mesh
          filename="package://bot_description/meshes/triangle-connector-l.STL" />
      </geometry>
    </collision>
  </link> -->
  <!-- -0.39024 0.23936 0.34675 -->
  <!-- <joint
    name="s-joint-right-down"
    type="revolute">
    <origin
      xyz="0.0 -0.1116 -0.01"
      rpy="0 0 -0.019521" />
    <parent
      link="triangle-right" />
    <child
      link="triangle-connector-r" />
    <axis
      xyz="0 0 1" />
    <limit
      lower="-1"
      upper="1"
      effort="100"
      velocity="1" />
  </joint> -->
  <gazebo>
    <joint name="s-joint-right-down" type="revolute">
      <parent>triangle-right</parent>
      <child>triangle-connector</child>
      <pose>0.1 0.0 0.01 3.1416 0 -3.1221</pose>
      <axis>
        <xyz>1 0 0</xyz>
        <limit>
          <lower>-30</lower>
          <upper>30</upper>
        </limit>
        <dynamics>
          <spring_reference>0</spring_reference>
          <spring_stiffness>0</spring_stiffness>
        </dynamics>
        <use_parent_model_frame>1</use_parent_model_frame>
      </axis>
      <physics>
        <ode>
          <implicit_spring_damper>1</implicit_spring_damper>
          <cfm_damping>1</cfm_damping>
          <limit>
            <cfm>0</cfm>
            <erp>0.2</erp>
          </limit>
        </ode>
      </physics>
    </joint>
  </gazebo>
  <link name="triangle-ball-right">
    <inertial>
      <origin rpy="0 0 0" xyz="2.07458677570216E-06 -0.0111838499137586 2.02617543465511E-07"/>
      <mass value="0.0236792406632795"/>
      <inertia ixx="2.57061050178732E-06" ixy="9.20708510051459E-11" ixz="-1.84149422795908E-09" iyy="3.59636855567974E-07" iyz="8.94129882843501E-12" izz="2.58931051687204E-06"/>
    </inertial>
    <visual>
      <origin rpy="0 0 0" xyz="0 0 0"/>
      <geometry>
        <mesh filename="package://bot_description/meshes/triangle-ball-right.STL"/>
      </geometry>
      <material name="">
        <color rgba="0.650980392156863 0.619607843137255 0.588235294117647 1"/>
      </material>
    </visual>
    <collision>
      <origin rpy="0 0 0" xyz="0 0 0"/>
      <geometry>
        <mesh filename="package://bot_description/meshes/triangle-ball-right.STL"/>
      </geometry>
    </collision>
  </link>
  <joint name="ball-right" type="fixed">
    <origin rpy="1.5708 0 -0.056761" xyz="0.21 0 0.0256"/>
    <parent link="triangle-right"/>
    <child link="triangle-ball-right"/>
    <axis xyz="0 0 0"/>
  </joint>
  <link name="socket-right">
    <inertial>
      <origin rpy="0 0 0" xyz="0.00692887499287914 0.000721744320446027 1.70823757916772E-08"/>
      <mass value="0.029558630160923"/>
      <inertia ixx="1.10515565135978E-06" ixy="1.44945104956428E-07" ixz="1.51117255919173E-12" iyy="3.6728879834209E-06" iyz="1.42307816563006E-12" izz="3.53209083484226E-06"/>
    </inertial>
    <visual>
      <origin rpy="0 0 0" xyz="0 0 0"/>
      <geometry>
        <mesh filename="package://bot_description/meshes/socket-right.STL"/>
      </geometry>
      <material name="">
        <color rgba="0.650980392156863 0.619607843137255 0.588235294117647 1"/>
      </material>
    </visual>
    <collision>
      <origin rpy="0 0 0" xyz="0 0 0"/>
      <geometry>
        <mesh filename="package://bot_description/meshes/socket-right.STL"/>
      </geometry>
    </collision>
  </link>
  <!-- looks good, might check again -->
  <joint name="ball-socket-right" type="floating">
    <origin rpy="-2.1439 -1.5681 2.1943" xyz="0 0 0"/>
    <parent link="triangle-ball-right"/>
    <child link="socket-right"/>
    <axis xyz="0 1 0"/>
  </joint>
  <gazebo>
    <joint name="ball-socket-right" type="ball">
      <parent>triangle-ball-right</parent>
      <child>socket-right</child>
      <pose>0 0 0 -2.1439 -1.5681 2.1943</pose>
      <axis>
        <xyz>0 1 0</xyz>
        <limit>
          <lower>-3</lower>
          <upper>3</upper>
        </limit>
        <dynamics>
          <spring_reference>0</spring_reference>
          <spring_stiffness>0</spring_stiffness>
        </dynamics>
        <use_parent_model_frame>0</use_parent_model_frame>
      </axis>
      <axis2>
        <xyz>0 0 1</xyz>
        <limit>
          <lower>-1</lower>
          <upper>1</upper>
        </limit>
        <dynamics>
          <spring_reference>0</spring_reference>
          <spring_stiffness>0</spring_stiffness>
        </dynamics>
        <use_parent_model_frame>0</use_parent_model_frame>
      </axis2>
      <physics>
        <ode>
          <implicit_spring_damper>1</implicit_spring_damper>
          <cfm_damping>1</cfm_damping>
          <limit>
            <cfm>0</cfm>
            <erp>0.2</erp>
          </limit>
        </ode>
      </physics>
    </joint>
  </gazebo>
  <link name="right-rod">
    <inertial>
      <origin rpy="0 0 0" xyz="-4.44089209850063E-16 -0.144572533027339 -4.44089209850063E-16"/>
      <mass value="0.0212057504117311"/>
      <inertia ixx="0.00012895746969134" ixy="-1.30319410375586E-19" ixz="1.35525271560688E-20" iyy="2.65071880146639E-07" iyz="-2.55542560997232E-19" izz="0.00012895746969134"/>
    </inertial>
    <visual>
      <origin rpy="0 0 0" xyz="0 0 0"/>
      <geometry>
        <mesh filename="package://bot_description/meshes/right-rod.STL"/>
      </geometry>
      <material name="">
        <color rgba="1 0.501960784313725 0.501960784313725 1"/>
      </material>
    </visual>
    <collision>
      <origin rpy="0 0 0" xyz="0 0 0"/>
      <geometry>
        <mesh filename="package://bot_description/meshes/right-rod.STL"/>
      </geometry>
    </collision>
  </link>
  <joint name="s-joint-5r" type="fixed">
    <origin rpy="0 0.46215 1.5708" xyz="0.0044275 0 0"/>
    <parent link="socket-right"/>
    <child link="right-rod"/>
    <axis xyz="0 1 0"/>
  </joint>
  <link name="socket-right-down">
    <inertial>
      <origin rpy="0 0 0" xyz="-0.0230097250802122 -0.00927825576114527 1.45507657034472E-08"/>
      <mass value="0.0295586322554704"/>
      <inertia ixx="1.10515540673767E-06" ixy="1.44945069137753E-07" ixz="-3.58261688020332E-13" iyy="3.67288825565564E-06" iyz="1.36590332483955E-12" izz="3.53209132242541E-06"/>
    </inertial>
    <visual>
      <origin rpy="0 0 0" xyz="0 0 0"/>
      <geometry>
        <mesh filename="package://bot_description/meshes/socket-right-down.STL"/>
      </geometry>
      <material name="">
        <color rgba="0.650980392156863 0.619607843137255 0.588235294117647 1"/>
      </material>
    </visual>
    <collision>
      <origin rpy="0 0 0" xyz="0 0 0"/>
      <geometry>
        <mesh filename="package://bot_description/meshes/socket-right-down.STL"/>
      </geometry>
    </collision>
  </link>
  <joint name="s-joint-6r" type="fixed">
    <origin rpy="1.1149 0 1.5708" xyz="-0.0044029 -0.26363 0.0089786"/>
    <parent link="right-rod"/>
    <child link="socket-right-down"/>
    <axis xyz="1 0 0"/>
  </joint>
  <link name="ball-right-down">
    <inertial>
      <origin rpy="0 0 0" xyz="2.07457333400995E-06 -0.0111838499108833 2.0254998001068E-07"/>
      <mass value="0.0236792406420234"/>
      <inertia ixx="2.57061050226204E-06" ixy="9.20708307735027E-11" ixz="-1.8414954739775E-09" iyy="3.59636855997047E-07" iyz="8.94415600789162E-12" izz="2.58931051698473E-06"/>
    </inertial>
    <visual>
      <origin rpy="0 0 0" xyz="0 0 0"/>
      <geometry>
        <mesh filename="package://bot_description/meshes/ball-right-down.STL"/>
      </geometry>
      <material name="">
        <color rgba="0.650980392156863 0.619607843137255 0.588235294117647 1"/>
      </material>
    </visual>
    <collision>
      <origin rpy="0 0 0" xyz="0 0 0"/>
      <geometry>
        <mesh filename="package://bot_description/meshes/ball-right-down.STL"/>
      </geometry>
    </collision>
  </link>
  <!-- <joint
    name="s-joint-7r"
    type="continuous">
    <origin
      xyz="-0.029939 -0.01 0"
      rpy="3.0227 1.1904 3.07" />
    <parent
      link="socket-right-down" />
    <child
      link="ball-right-down" />
    <axis
      xyz="0 0 1" /> -->
  <!-- user-defined false axis 0.6621 0.060914 -0.74694-->
  <!-- </joint> -->
  <gazebo>
    <joint name="s-joint-7r" type="universal">
      <parent>socket-right-down</parent>
      <child>ball-right-down</child>
      <pose>0.337 -0.2425 0.2 0 0 0</pose>
      <axis>
        <xyz>0 0 1</xyz>
        <limit>
          <lower>-3</lower>
          <upper>3</upper>
        </limit>
        <dynamics>
          <spring_reference>0</spring_reference>
          <spring_stiffness>0</spring_stiffness>
        </dynamics>
        <use_parent_model_frame>0</use_parent_model_frame>
      </axis>
      <axis2>
        <xyz>1 0 0</xyz>
        <limit>
          <lower>-1</lower>
          <upper>1</upper>
        </limit>
        <dynamics>
          <spring_reference>0</spring_reference>
          <spring_stiffness>0</spring_stiffness>
        </dynamics>
        <use_parent_model_frame>0</use_parent_model_frame>
      </axis2>
      <physics>
        <ode>
          <implicit_spring_damper>1</implicit_spring_damper>
          <cfm_damping>1</cfm_damping>
          <limit>
            <cfm>0</cfm>
            <erp>0.2</erp>
          </limit>
        </ode>
      </physics>
    </joint>
  </gazebo>
</robot>
